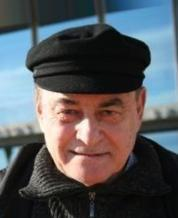face: (56, 98, 122, 163)
